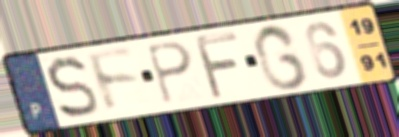6: (303, 20, 351, 81)
F: (83, 46, 144, 116), (191, 30, 243, 102)
G: (250, 22, 311, 93)
P: (143, 40, 196, 108)
S: (43, 54, 102, 122)
